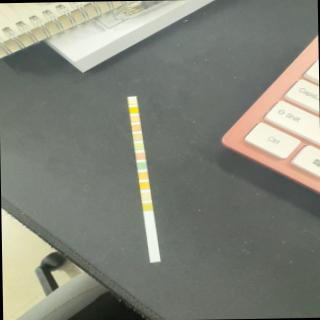mark: (140, 192, 150, 200), (135, 152, 146, 159), (142, 203, 153, 210), (130, 115, 140, 122), (138, 172, 148, 179), (140, 182, 150, 189), (137, 162, 146, 169), (131, 124, 141, 130), (132, 134, 142, 140), (128, 98, 137, 104), (129, 107, 138, 113), (134, 143, 143, 149)
